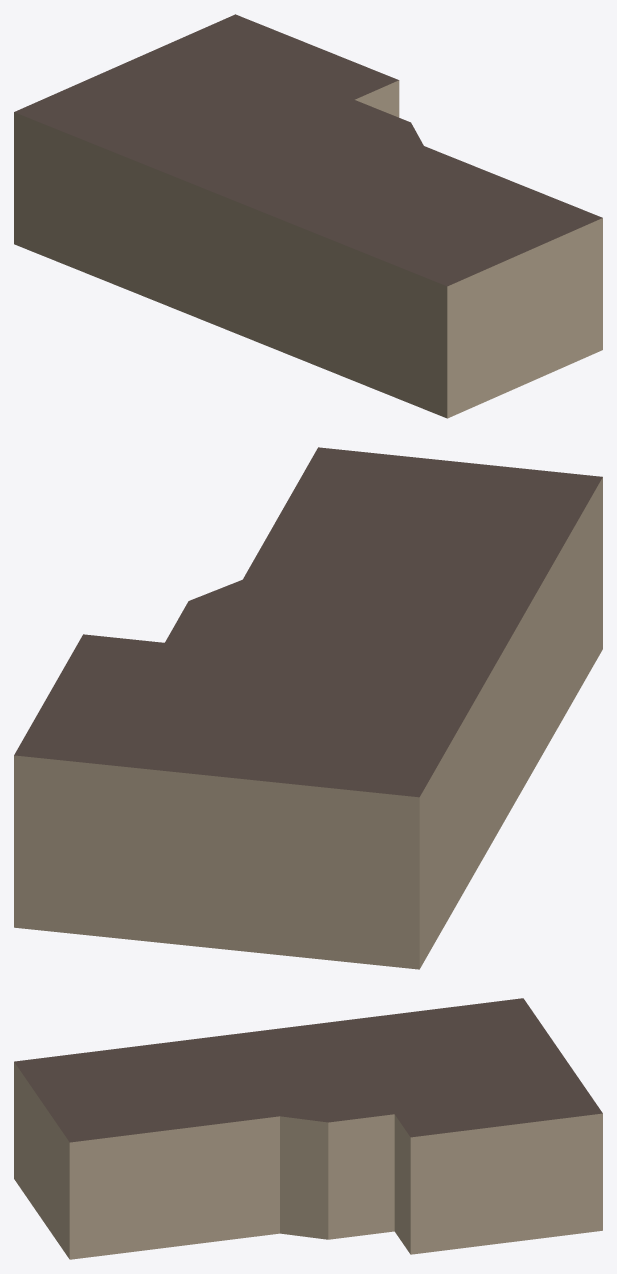
The picture shows the model from 3 angles, top to bottom: view 1: azimuth 30°, elevation 25°; view 2: azimuth 150°, elevation 25°; view 3: azimuth 270°, elevation 25°; orthographic projection. The views are drawn at different scales.
Visible parts, largest first — view 1: HP-w757502025; view 2: HP-w757502025; view 3: HP-w757502025.
Boxes of the visible parts, bbox=[...] form: HP-w757502025: bbox=[14, 14, 602, 418]; HP-w757502025: bbox=[14, 447, 602, 969]; HP-w757502025: bbox=[14, 998, 602, 1259].
Bounding box in the file's own units: 23.76 × 9 × 40.97.
